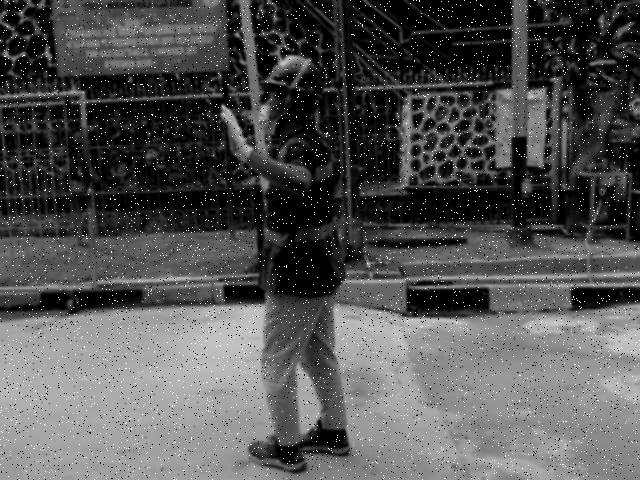gloves: (215, 102, 253, 165)
helmet: (257, 52, 327, 99)
mask: (256, 100, 289, 133)
safety-shoes: (242, 427, 304, 476), (295, 420, 355, 458)
